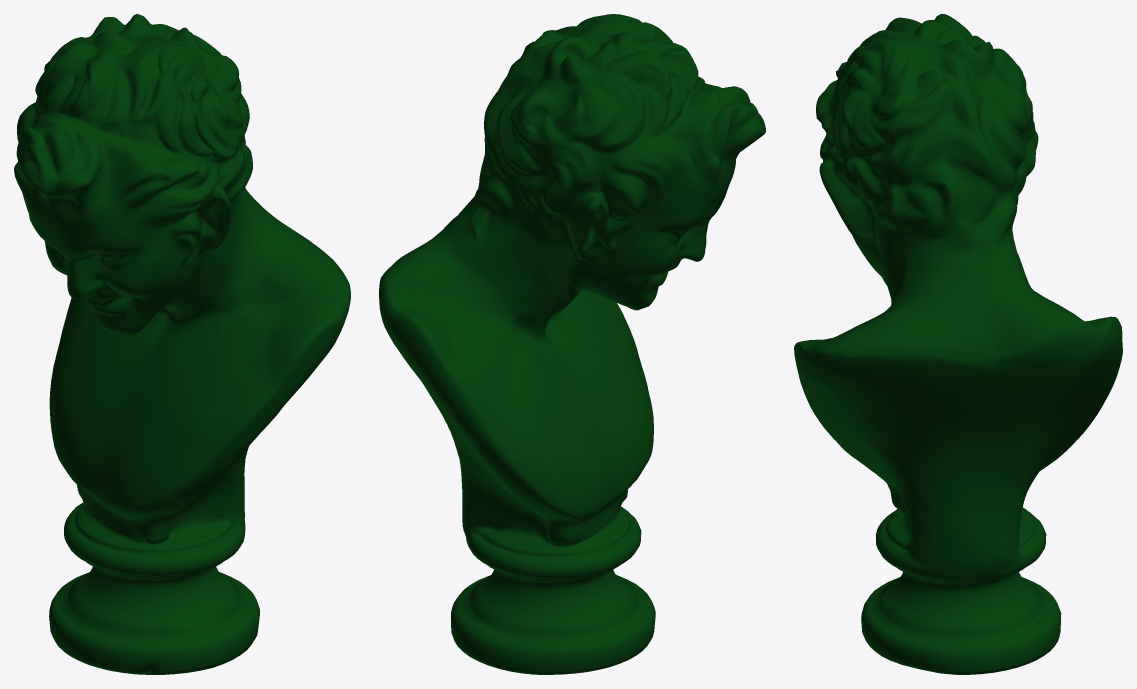
The model's file is Statue3.FBX.
3 views of the same model, side by side, from view 1: azimuth 30°, elevation 25°; view 2: azimuth 150°, elevation 25°; view 3: azimuth 270°, elevation 25° (orthographic). The views are drawn at different scales.
Parts seen in each view (by area): view 1: Statue3_LOD0; view 2: Statue3_LOD0; view 3: Statue3_LOD0.
Boxes of the visible parts, x1,y1,x2,y2 form: Statue3_LOD0: (14, 14, 350, 674); Statue3_LOD0: (379, 14, 765, 674); Statue3_LOD0: (794, 14, 1122, 674).
Size of what is drawn, in the model's own units: 61.91 by 119 by 60.41.
